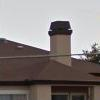Chimney: (44, 16, 76, 62)
